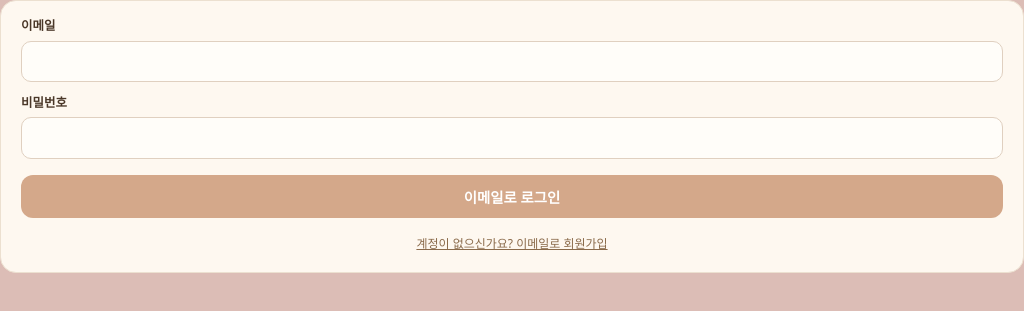
Test: EmailAuthForm › rejects an empty password before submitting and focuses the password field
The image size is (1024, 311).
Type "user@example.com" into the field labelled "이메일" at [512, 61], box x1=21 y1=40 x2=1003 y2=82
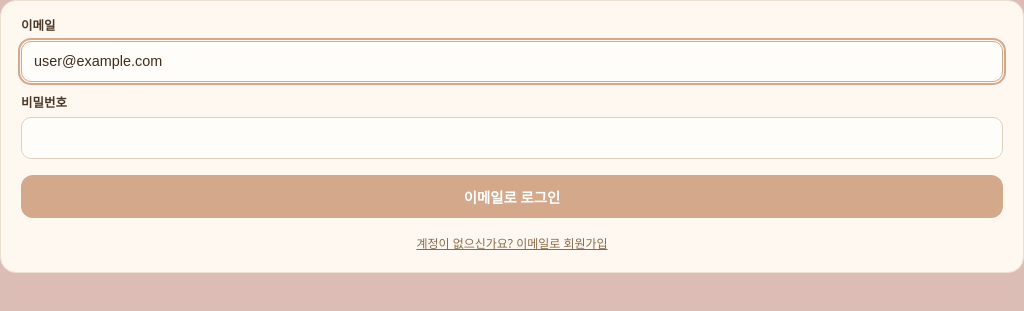
Click the button "이메일로 로그인" at [512, 196], box x1=21 y1=175 x2=1003 y2=218
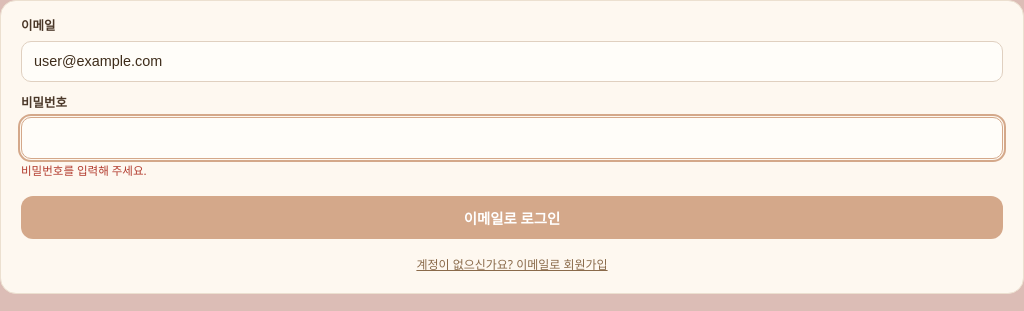
Expected: the text "비밀번호를 입력해 주세요." is shown, x1=21 y1=164 x2=147 y2=178
